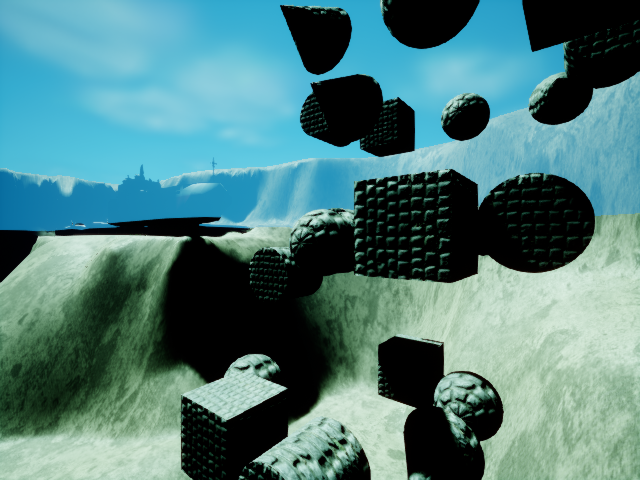Cone: (268, 4, 358, 75)
Cube: (347, 165, 490, 297)
Sphere: (429, 85, 496, 143)
